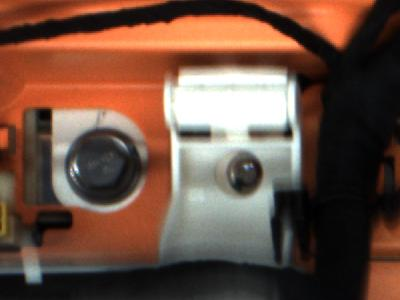nut_b: (63, 129, 150, 206)
